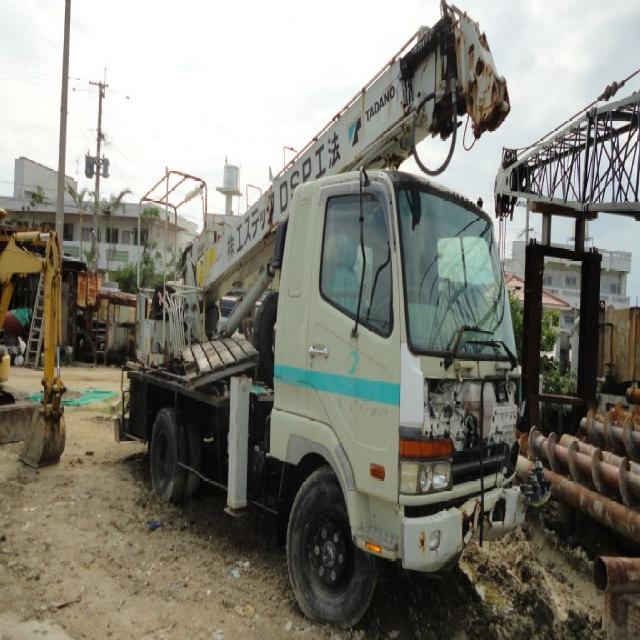truck: (114, 0, 530, 622)
